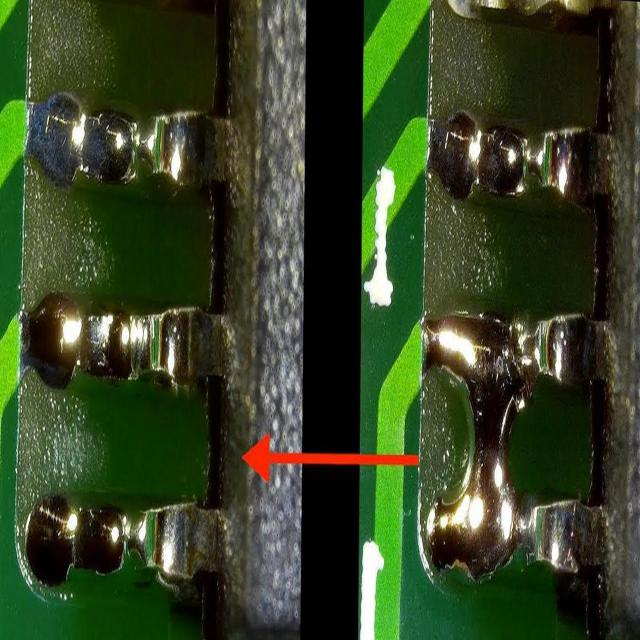Short_circuit: (425, 315, 526, 574)
